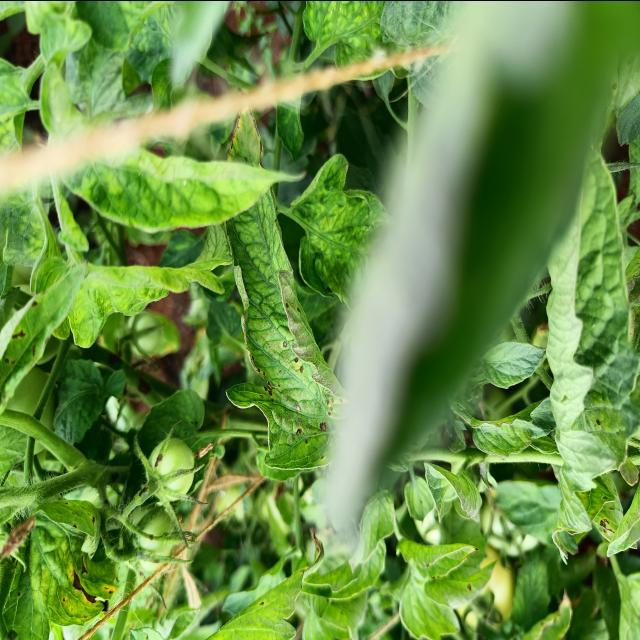Tomato mosaic virus leaf: (221, 102, 344, 472), (38, 496, 122, 630)
